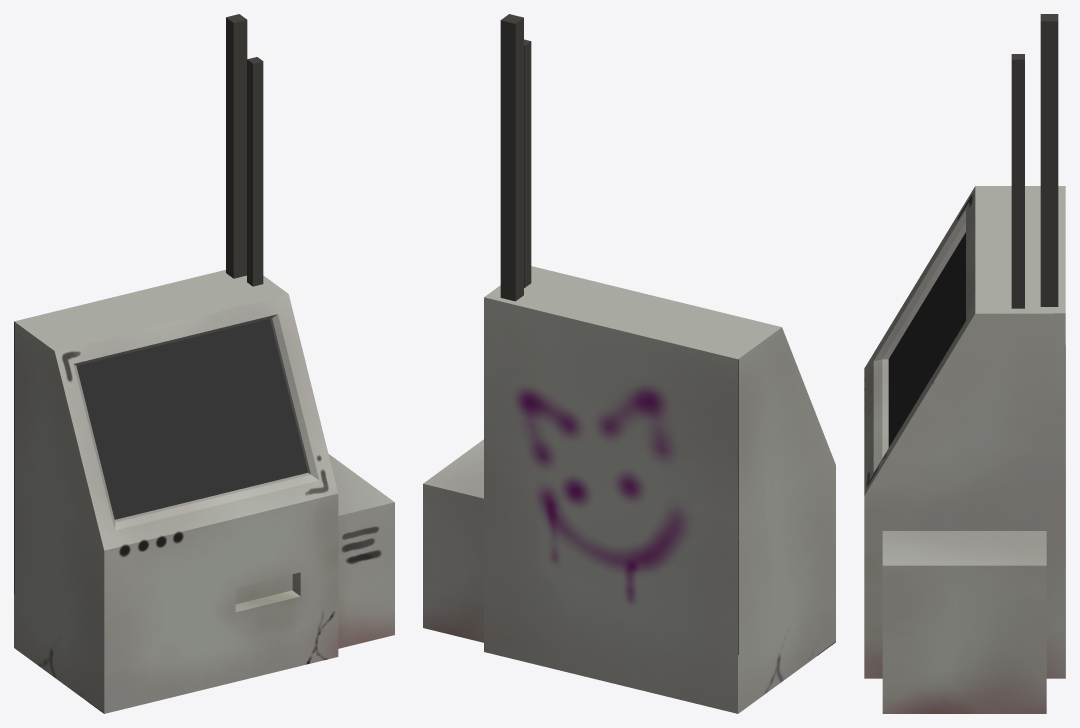
Rendered from terminal.fbx.
3 views of the same model, side by side, from view 1: azimuth 30°, elevation 25°; view 2: azimuth 150°, elevation 25°; view 3: azimuth 270°, elevation 25° (orthographic). The views are drawn at different scales.
Parts seen in each view (by area): view 1: Cube.001; view 2: Cube.001; view 3: Cube.001.
Boxes of the visible parts, bbox=[...] form: Cube.001: bbox=[14, 14, 394, 713]; Cube.001: bbox=[423, 14, 835, 713]; Cube.001: bbox=[864, 14, 1065, 713].
Bounding box in the file's own units: 95.74 × 178 × 50.
